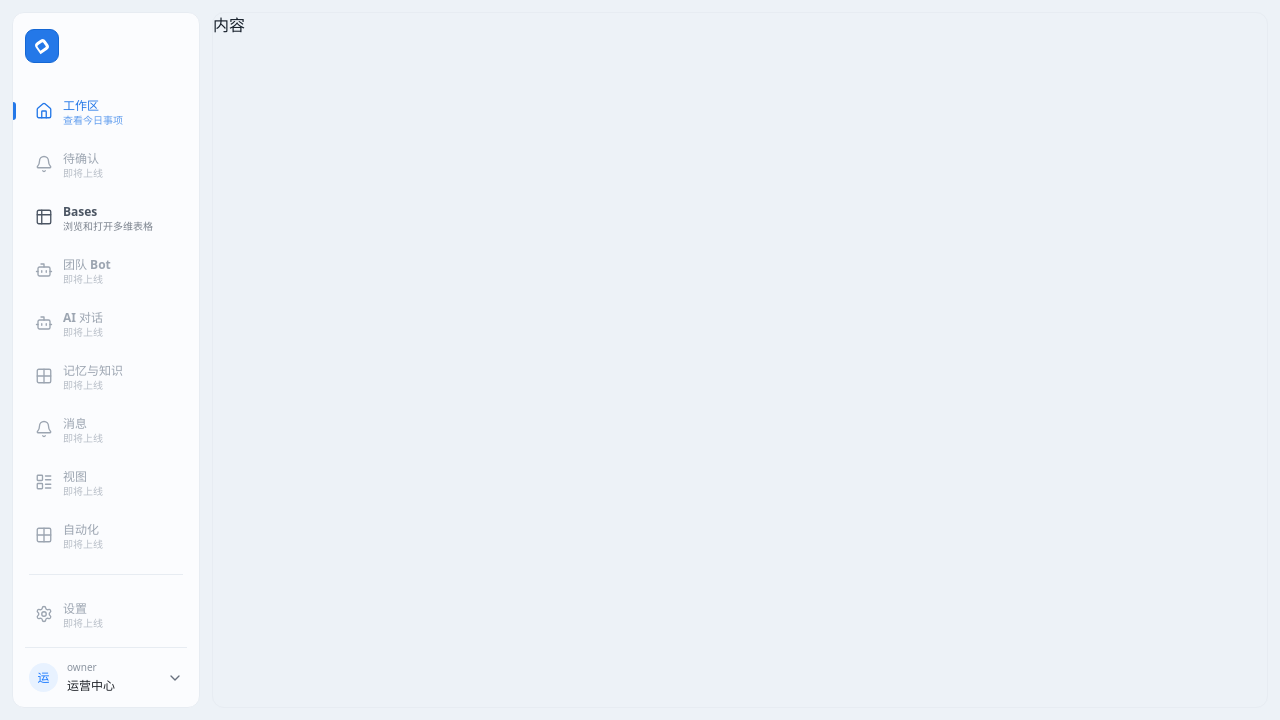
Test: explains a planned navigation item without pretending to open an unavailable page
Click the button with aria-label "消息：即将上线" at (106, 429), box [25,405,187,453]
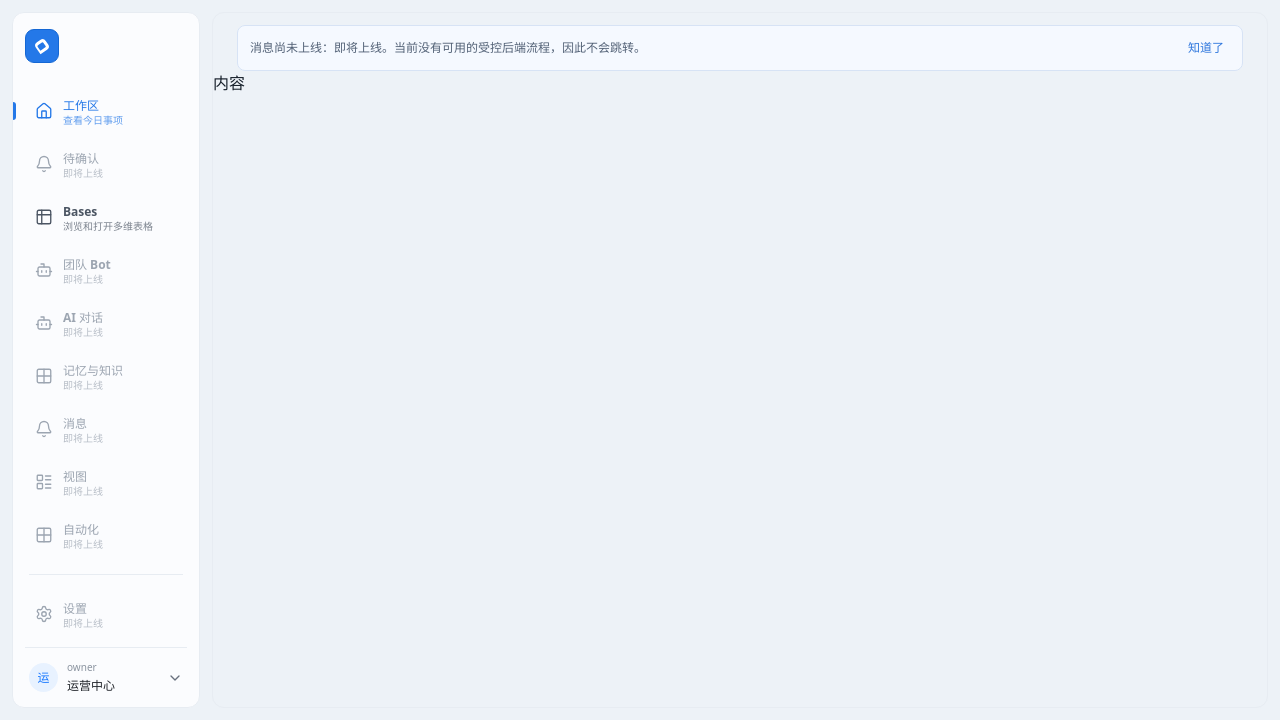
expect the message shows "消息尚未上线": met, box [250,39,646,56]
expect the message shows "不会跳转": met, box [250,39,646,56]
